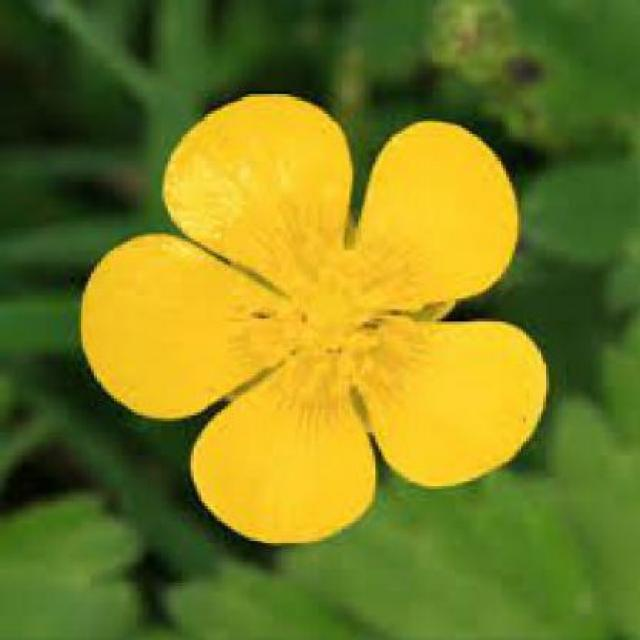Flower: (77, 91, 549, 546)
